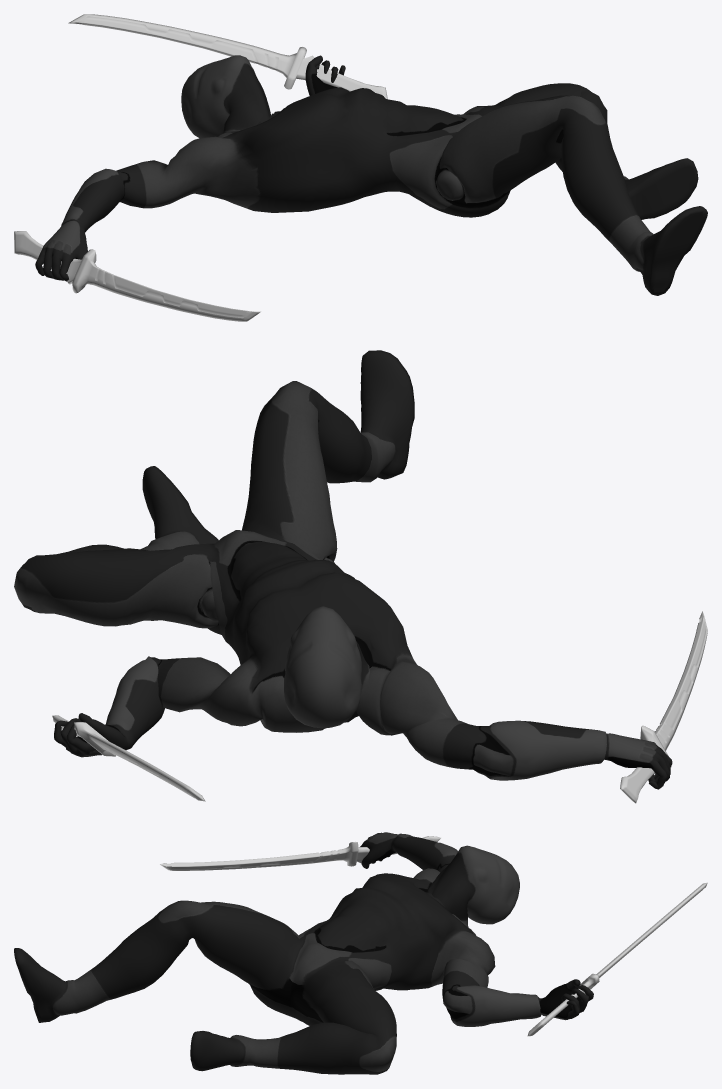
3 renders of one model, top to bottom at view 1: azimuth 30°, elevation 25°; view 2: azimuth 150°, elevation 25°; view 3: azimuth 270°, elevation 25°, orthographic. The views are drawn at different scales.
Visible parts, largest first — view 1: Cyborg_Ninja_Killer, Sword_l, Sword_l001; view 2: Cyborg_Ninja_Killer, Sword_l001, Sword_l; view 3: Cyborg_Ninja_Killer, Sword_l001, Sword_l.
Part boxes in pixels (left/top/right/bottom): Cyborg_Ninja_Killer: left=35, top=55, right=707, bottom=295; Sword_l: left=68, top=14, right=387, bottom=99; Sword_l001: left=14, top=231, right=260, bottom=321; Cyborg_Ninja_Killer: left=14, top=350, right=672, bottom=789; Sword_l001: left=620, top=611, right=707, bottom=803; Sword_l: left=52, top=715, right=205, bottom=801; Cyborg_Ninja_Killer: left=14, top=832, right=593, bottom=1074; Sword_l001: left=160, top=836, right=440, bottom=870; Sword_l: left=527, top=882, right=707, bottom=1036.
Bounding box in the file's own units: 173 × 47.95 × 209.
